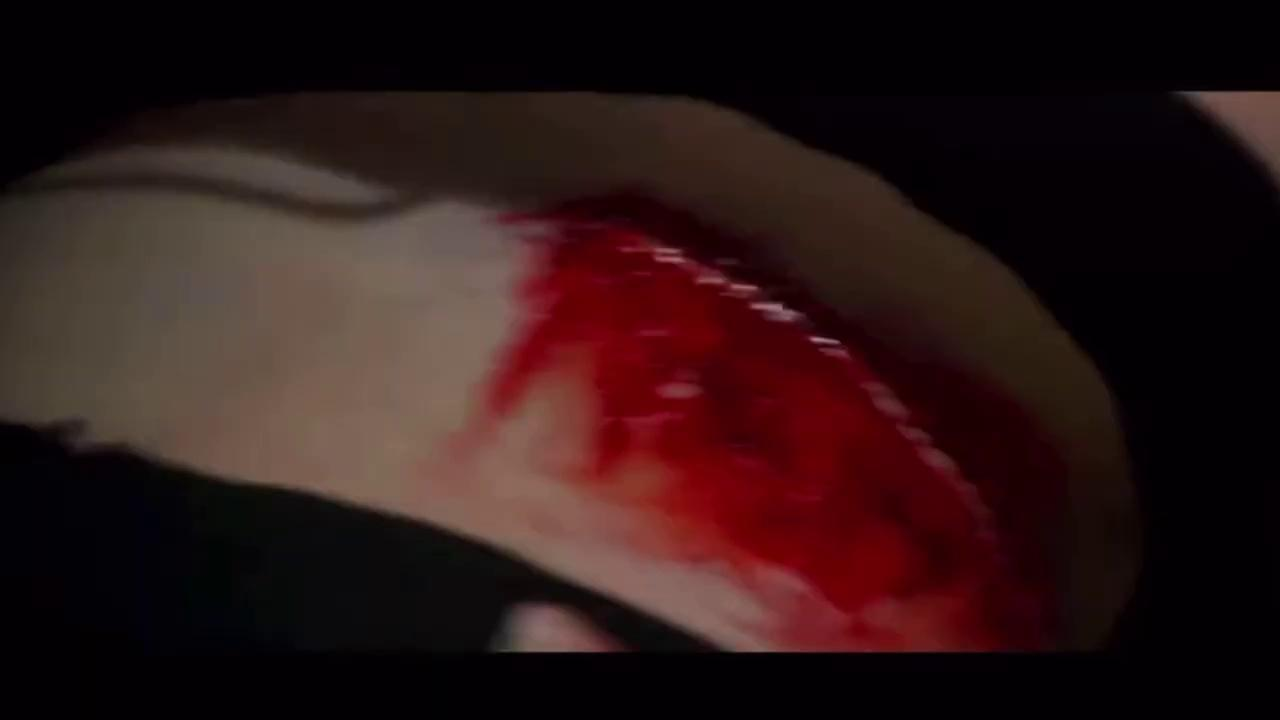Fire: (430, 171, 1148, 654)
